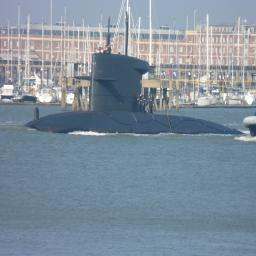submarine: (19, 54, 253, 138)
